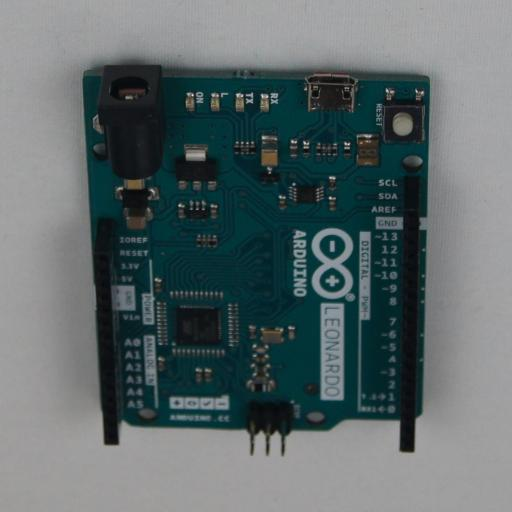Arduino Leonardo: (82, 59, 430, 455)
